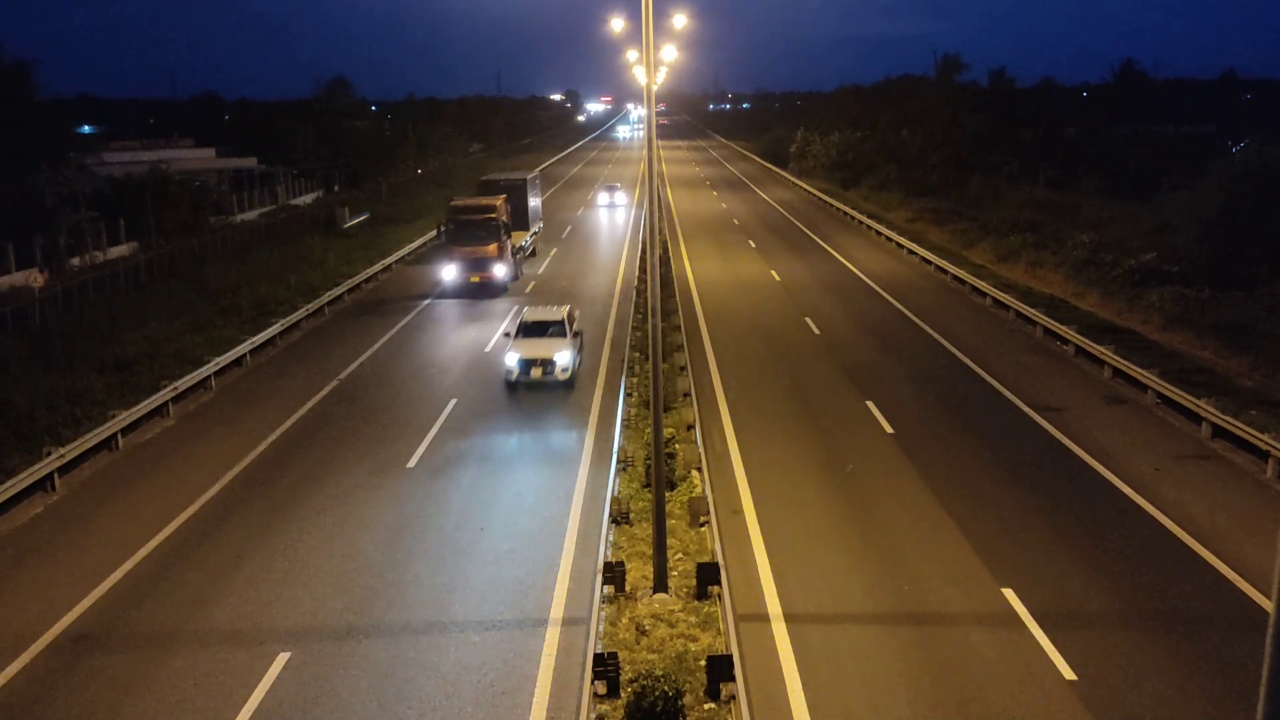car: (498, 296, 584, 390)
truck: (432, 166, 544, 298)
